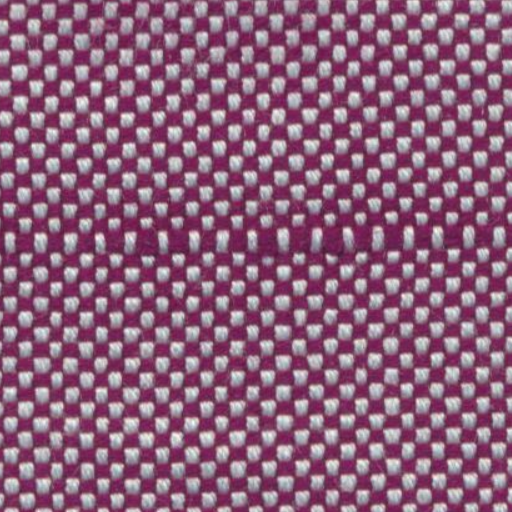DaiSha: (16, 206, 480, 262)
